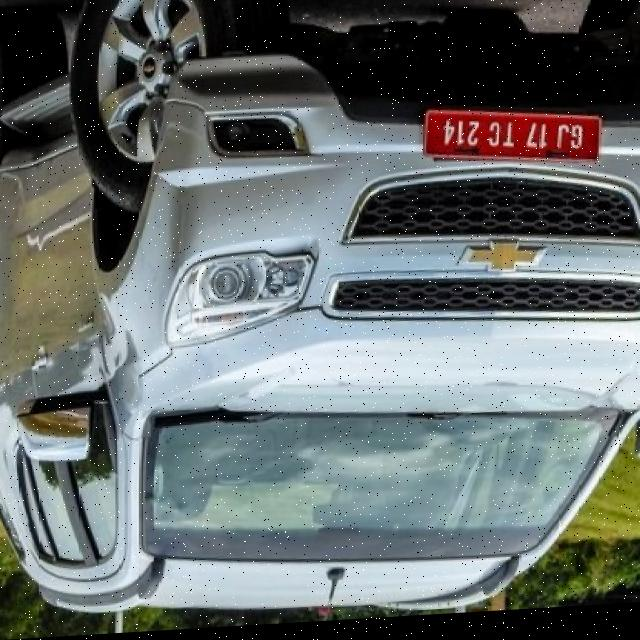plate: (423, 106, 605, 179)
